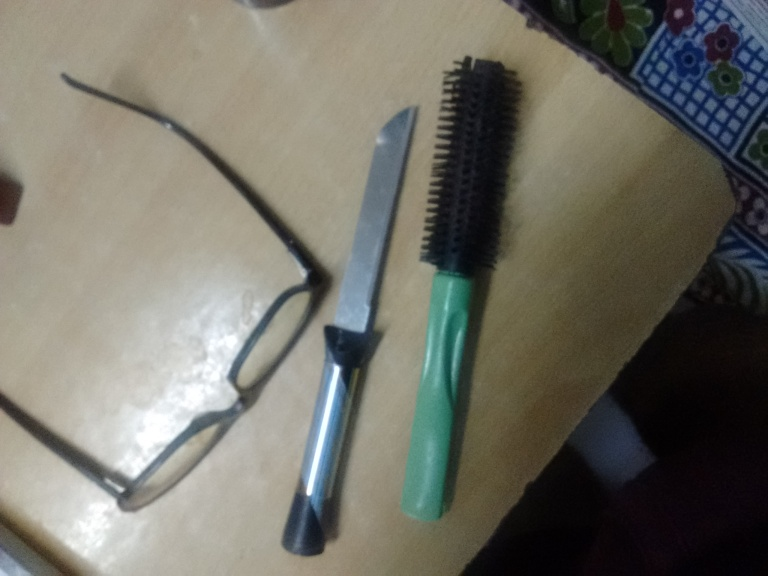knife: (284, 100, 418, 558)
